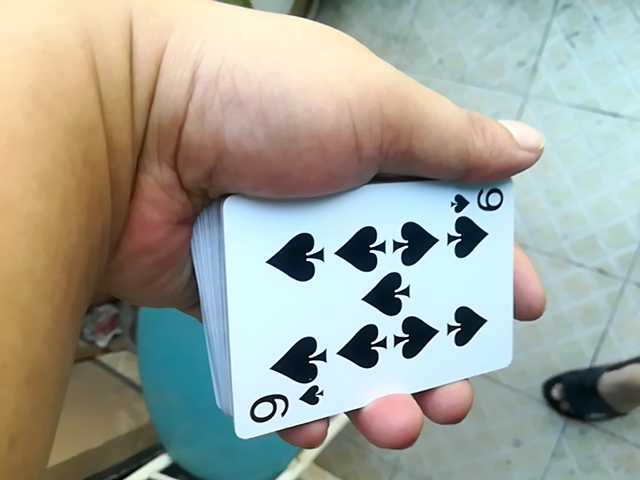ht 9: (212, 174, 516, 448)
